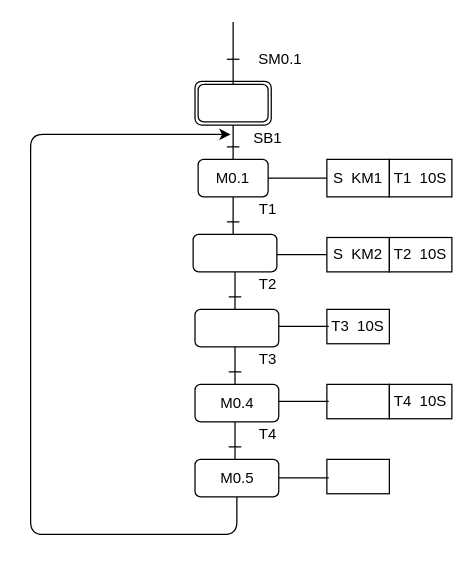
This 474x566 diagram has some shape labels left out. Each missing label, with the centre of its shape:
"M0.0" belongs at [232,102].
"M0.2" belongs at [234,252].
"M0.3" belongs at [236,327].
"R KM1" belongs at [357,401].
"R KM2" belongs at [357,476].
